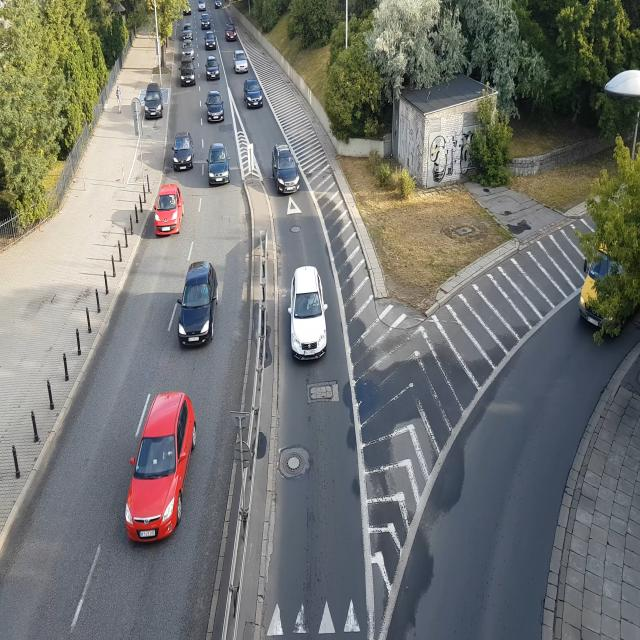car: (123, 391, 197, 542), (572, 216, 610, 340), (287, 264, 331, 364), (176, 263, 219, 346), (152, 180, 184, 236), (271, 144, 301, 195), (207, 145, 231, 187), (172, 135, 196, 173), (143, 85, 164, 118), (207, 91, 226, 123), (245, 78, 264, 108), (182, 39, 198, 61), (205, 58, 219, 80), (234, 51, 248, 72), (182, 22, 194, 42), (180, 72, 198, 85), (203, 32, 216, 48), (197, 0, 210, 14), (214, 0, 225, 16), (226, 27, 238, 41), (183, 3, 194, 17), (200, 17, 212, 29)
